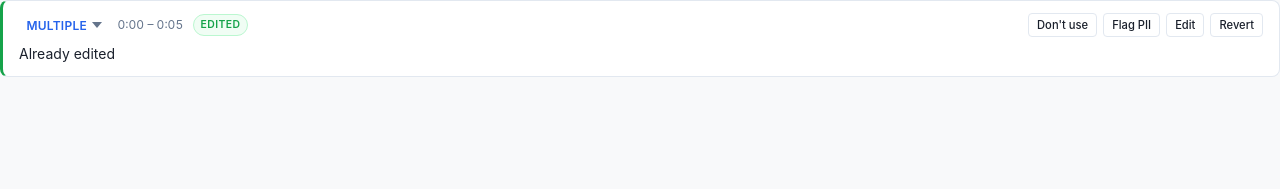
SegmentList › Segment text editing › Edit mode pre-fills with edited_text when present
This screenshot has width=1280, height=189.
What coordinates should you click on to do the following:
click the button with test id "segment-edit-btn-0"
I would click on:
 (1185, 25)
Its box is [1166,13,1204,37].
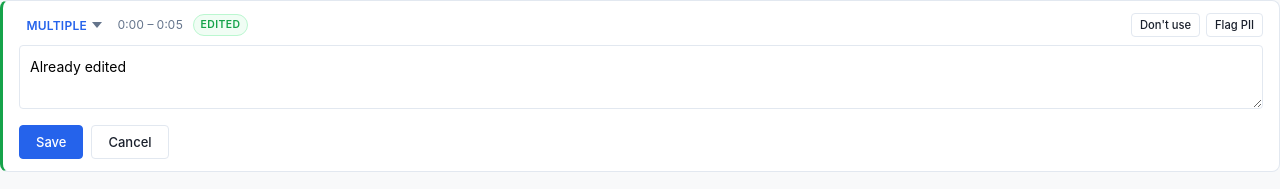
Expected: the text box with test id "segment-edit-input-0" holds "Already edited", [19,45,1263,109]
